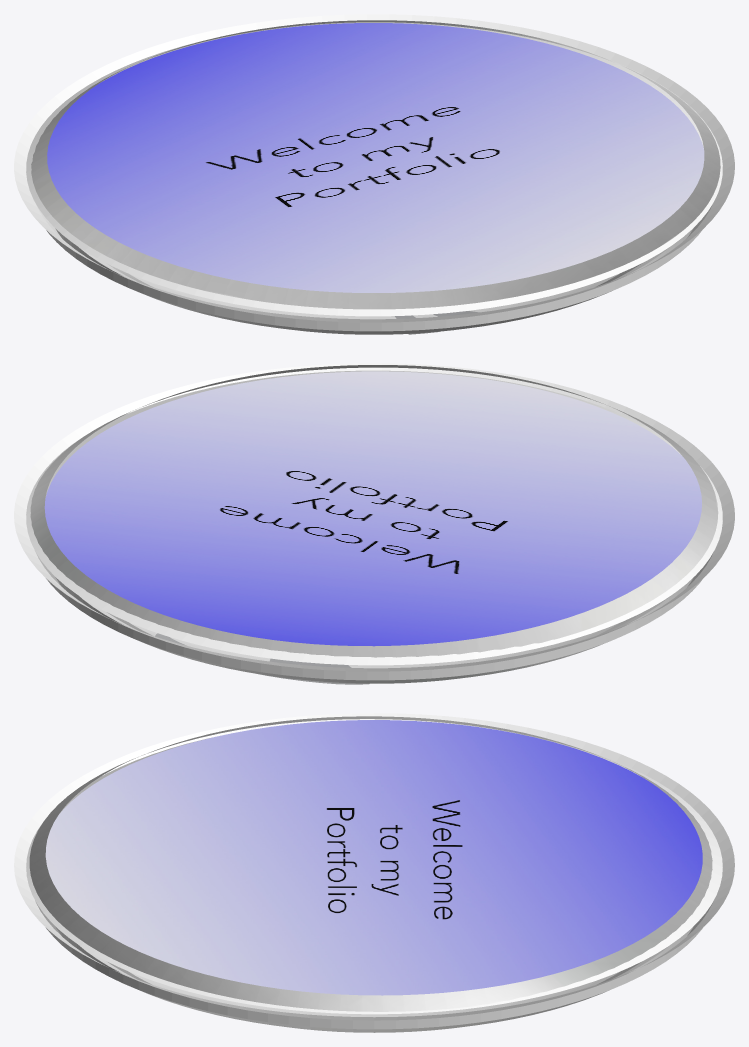
Rendered from keycoin.glb.
The picture shows the model from 3 angles, top to bottom: view 1: azimuth 30°, elevation 25°; view 2: azimuth 150°, elevation 25°; view 3: azimuth 270°, elevation 25°; orthographic projection.
Parts seen in each view (by area): view 1: bottom of button, button body, outter ring.001, outter ring; view 2: bottom of button, button body, outter ring.001, outter ring, key; view 3: bottom of button, button body, outter ring.001, outter ring.
Boxes of the visible parts, x1,y1,x2,y2 form: bottom of button: (47, 23, 704, 292); button body: (14, 14, 734, 331); outter ring.001: (31, 20, 720, 309); outter ring: (35, 202, 713, 334); bottom of button: (44, 371, 701, 646); button body: (14, 363, 734, 680); outter ring.001: (30, 365, 718, 657); outter ring: (35, 551, 713, 683); key: (155, 633, 369, 684); bottom of button: (45, 720, 702, 995); button body: (14, 713, 734, 1029); outter ring.001: (29, 716, 712, 1011); outter ring: (35, 901, 713, 1032).
Bounding box in the file's own units: 1.18 × 0.2235 × 1.18.
5 materials, 4 textured.
